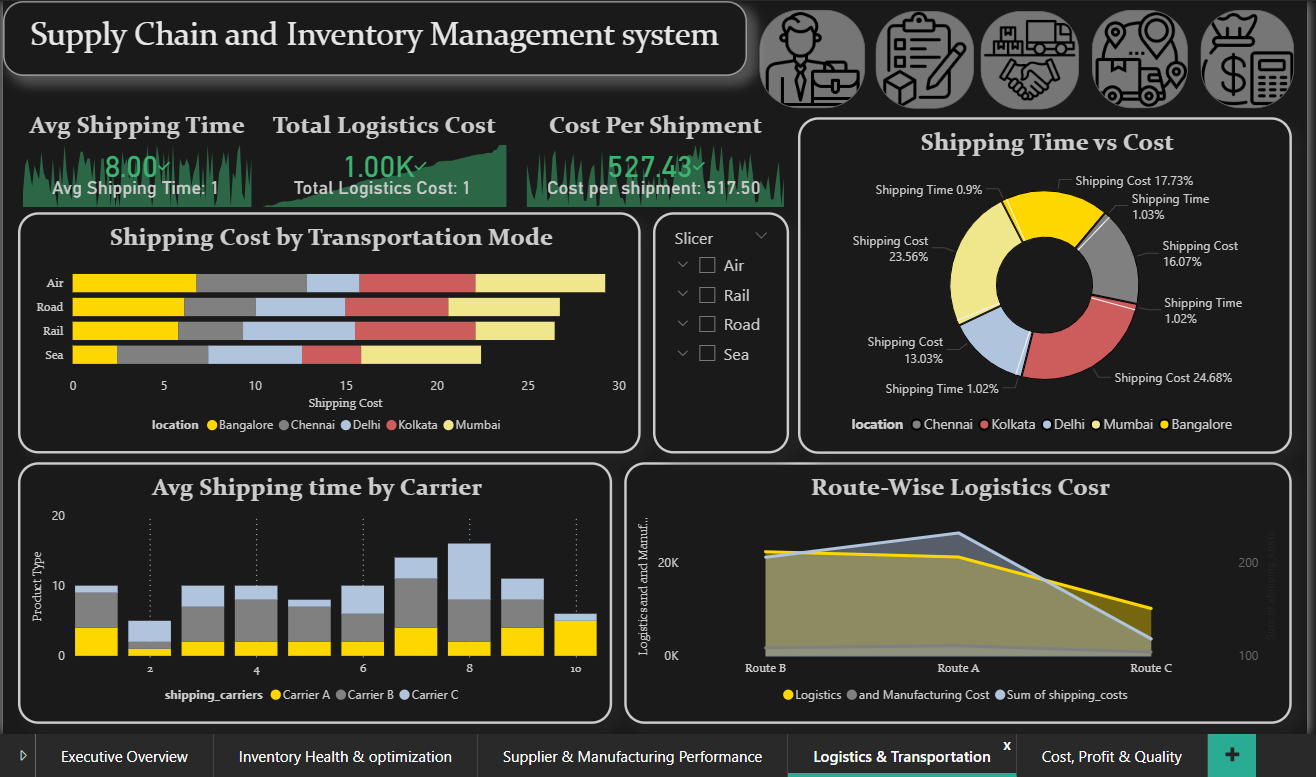

The page's visual inventory and layout, read from the dashboard file:
{"tool":"powerbi","page":{"name":"Logistics & Transportation","canvas":[1280,720],"ordinal":3},"visuals":[{"type":"textbox","box":[0,0,730.1,73.6],"z":0},{"type":"actionButton","box":[780.4,0,452.8,114.1],"z":1000},{"type":"image","box":[742.3,8.6,104.3,96.9],"z":2000},{"type":"image","box":[856.4,9.8,96.9,95.7],"z":3000},{"type":"image","box":[959.5,9.8,96.9,96.9],"z":4000},{"type":"image","box":[1068.7,8.6,94.5,96.9],"z":5000},{"type":"image","box":[1175.5,8.6,92,96.9],"z":6000},{"type":"kpi","title":"Avg Shipping Time","fields":{"Indicator":["Supply_chain_bi_data.Avg Shipping Time"],"Goal":["CountNonNull(Supply_chain_bi_data.routes)"],"TrendLine":["Supply_chain_bi_data.shipping_costs"]},"box":[14.7,106.7,234.4,100.6],"z":7000},{"type":"kpi","title":"Total Logistics Cost","fields":{"Indicator":["Supply_chain_bi_data.Total logistics cost"],"Goal":["CountNonNull(Supply_chain_bi_data.routes)"],"TrendLine":["Supply_chain_bi_data.costs"]},"box":[249.1,106.7,250.3,100.6],"z":8000},{"type":"kpi","title":"Cost Per Shipment","fields":{"Indicator":["Supply_chain_bi_data.Cost per Shipment"],"Goal":["Sum(Supply_chain_bi_data.costs)"],"TrendLine":["Supply_chain_bi_data.shipping_costs"]},"box":[509.2,106.7,262.6,100.6],"z":9000},{"type":"barChart","title":"Shipping Cost by Transportation Mode","fields":{"Category":["Supply_chain_bi_data.transportation_modes"],"Y":["Avg(Supply_chain_bi_data.shipping_costs)"],"Series":["Supply_chain_bi_data.location"]},"box":[14.7,207.4,611,236.8],"z":10000},{"type":"columnChart","title":"Avg Shipping time by Carrier","fields":{"Category":["Supply_chain_bi_data.shipping_times"],"Series":["Supply_chain_bi_data.shipping_carriers"],"Y":["CountNonNull(Supply_chain_bi_data.product_type)"]},"box":[14.7,452.8,582.8,256.4],"z":11000},{"type":"areaChart","title":"Route-Wise Logistics Cosr","fields":{"Category":["Supply_chain_bi_data.routes"],"Y":["Supply_chain_bi_data.Total logistics cost","Sum(Supply_chain_bi_data.manufacturing_costs)"],"Y2":["Sum(Supply_chain_bi_data.shipping_costs)"]},"box":[609.8,452.8,655.2,256.4],"z":12000},{"type":"slicer","fields":{"Values":["Supply_chain_bi_data.transportation_modes","Supply_chain_bi_data.shipping_carriers","Supply_chain_bi_data.routes","Supply_chain_bi_data.location","Supply_chain_bi_data.product_type"]},"box":[638,207.4,133.7,236.8],"z":13000},{"type":"pieChart","title":"Shipping Time vs Cost","fields":{"Category":["Supply_chain_bi_data.location","Supply_chain_bi_data.transportation_modes"],"Y":["Avg(Supply_chain_bi_data.shipping_times)","Sum(Supply_chain_bi_data.shipping_costs)"]},"box":[780.4,114.1,484.7,330.1],"z":14000}]}

Visuals, with their boxes on the page's 1280x720 design canvas (x1, y1, x2, y2). These are canvas units, not pixel positions in the 1316x777 screenshot, which may show the page scaled, cropped or inside an application window:
textbox: bbox(0, 0, 730, 74)
actionButton: bbox(780, 0, 1233, 114)
image: bbox(742, 9, 847, 106)
image: bbox(856, 10, 953, 106)
image: bbox(960, 10, 1056, 107)
image: bbox(1069, 9, 1163, 106)
image: bbox(1176, 9, 1268, 106)
"Avg Shipping Time" kpi: bbox(15, 107, 249, 207)
"Total Logistics Cost" kpi: bbox(249, 107, 499, 207)
"Cost Per Shipment" kpi: bbox(509, 107, 772, 207)
"Shipping Cost by Transportation Mode" barChart: bbox(15, 207, 626, 444)
"Avg Shipping time by Carrier" columnChart: bbox(15, 453, 598, 709)
"Route-Wise Logistics Cosr" areaChart: bbox(610, 453, 1265, 709)
slicer - Supply_chain_bi_data.transportation_modes x Supply_chain_bi_data.shipping_carriers: bbox(638, 207, 772, 444)
"Shipping Time vs Cost" pieChart: bbox(780, 114, 1265, 444)
